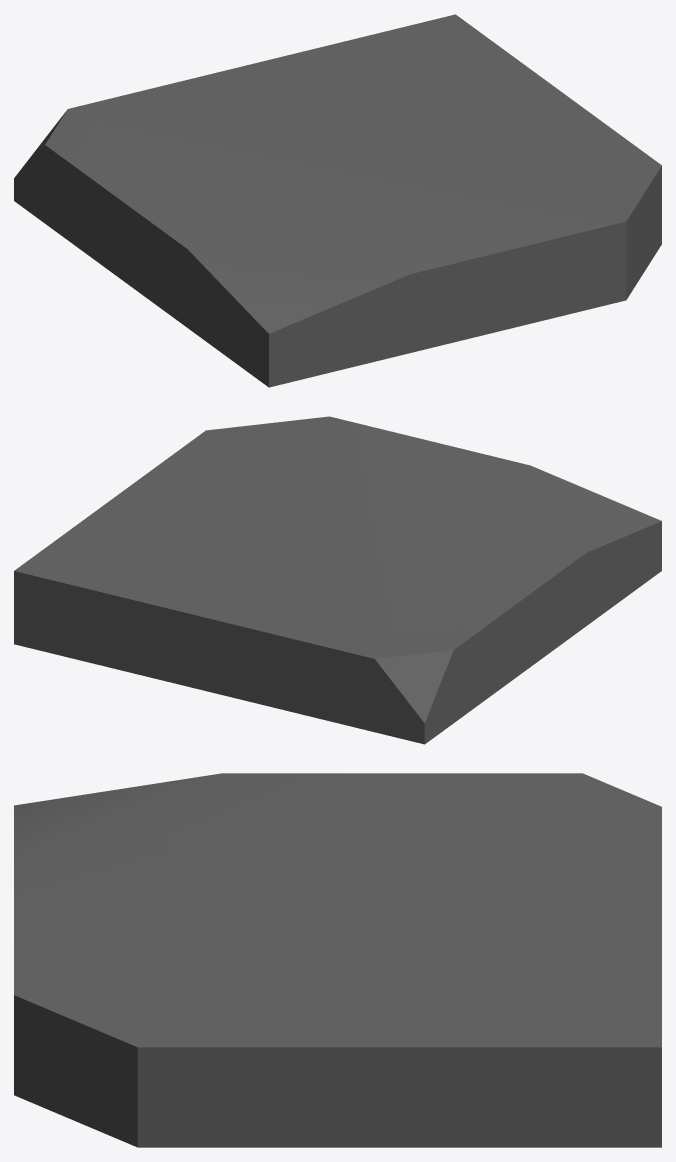
The model's file is Tile_01.fbx.
3 renders of one model, top to bottom at view 1: azimuth 30°, elevation 25°; view 2: azimuth 150°, elevation 25°; view 3: azimuth 270°, elevation 25°, orthographic. The views are drawn at different scales.
Visible parts, largest first — view 1: Tile_01_LOD0; view 2: Tile_01_LOD0; view 3: Tile_01_LOD0.
Part boxes in pixels (bbox=[...]): Tile_01_LOD0: bbox=[14, 14, 661, 387]; Tile_01_LOD0: bbox=[14, 416, 661, 744]; Tile_01_LOD0: bbox=[14, 773, 661, 1147].
Size of what is drawn, in the model's own units: 0.2293 by 0.0391 by 0.2293.
